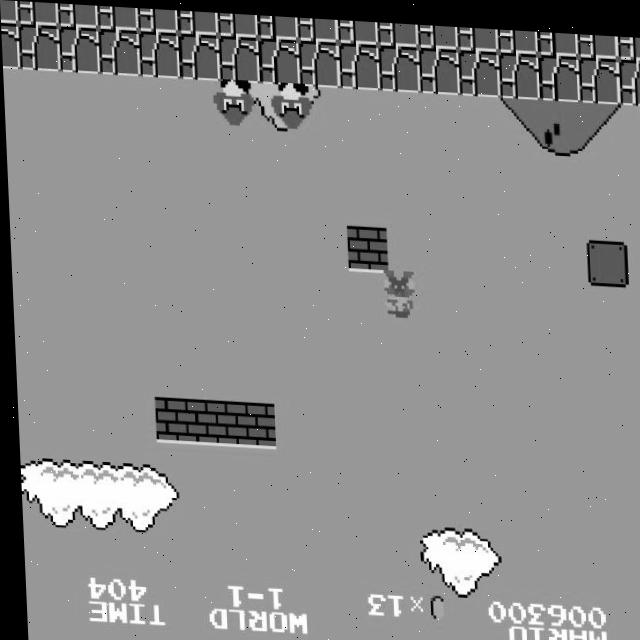1- brick_block: (344, 221, 387, 269), (231, 399, 273, 446), (191, 397, 233, 444), (151, 395, 193, 442)
11- little_mario: (376, 266, 421, 316)
17- undestructible_block: (578, 49, 620, 97), (498, 46, 540, 94), (458, 44, 500, 92), (418, 42, 460, 90), (378, 40, 420, 88), (338, 38, 380, 86), (298, 36, 340, 84), (258, 34, 300, 82), (218, 33, 260, 81), (178, 31, 220, 79), (138, 29, 180, 77), (98, 27, 140, 75), (58, 25, 100, 73), (18, 23, 60, 71), (538, 48, 580, 95), (577, 27, 619, 52), (537, 25, 579, 50), (497, 23, 539, 48), (457, 21, 499, 46), (417, 19, 459, 44), (337, 16, 379, 41), (297, 14, 339, 39), (257, 12, 299, 37), (217, 10, 259, 35), (177, 8, 219, 33), (137, 6, 179, 31), (57, 3, 99, 28), (17, 1, 59, 26), (377, 18, 419, 42), (97, 5, 139, 29), (619, 51, 640, 98), (1, 23, 20, 70), (618, 29, 640, 53), (0, 1, 19, 24)
3- empty_block: (584, 232, 627, 280)
8- goomba: (212, 75, 257, 126), (270, 78, 314, 129)
